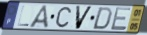A: (28, 5, 50, 30)
C: (55, 6, 72, 29)
D: (91, 7, 113, 31)
E: (110, 6, 133, 32)
L: (16, 5, 30, 28)
V: (75, 5, 94, 31)
